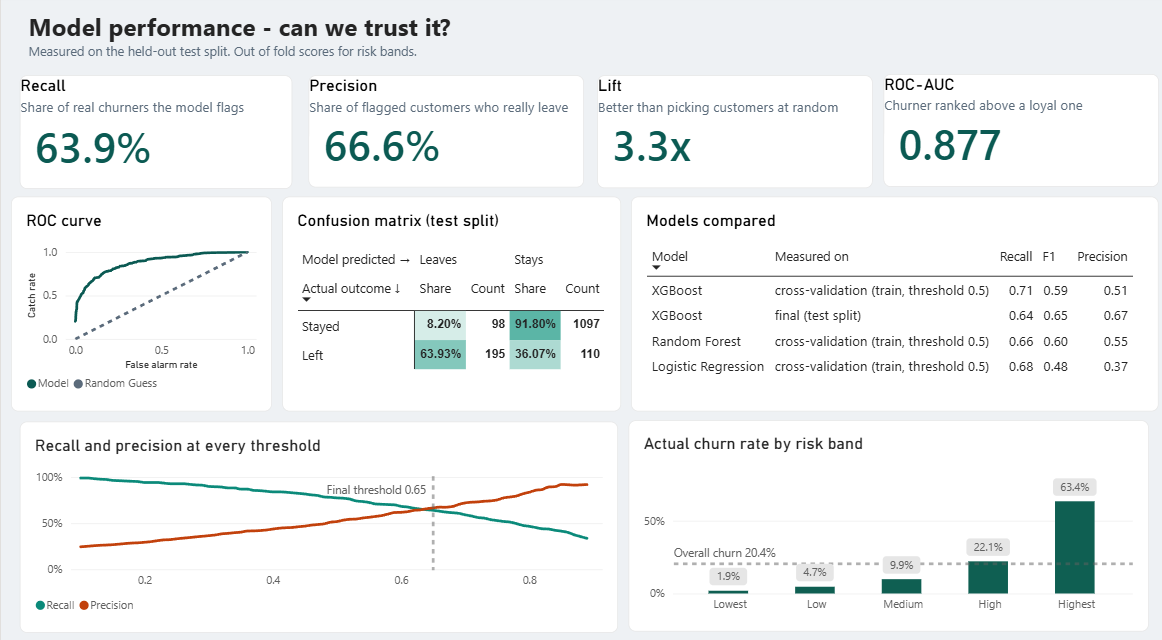

Layout of this report page (visuals, bound fields, positions):
{"tool":"powerbi","page":{"name":"Model Performance","canvas":[1280,720],"ordinal":0},"visuals":[{"type":"textbox","box":[30.2,0,423.5,77.2],"z":0},{"type":"textbox","box":[30.2,18.1,577.9,82],"z":1000},{"type":"cardVisual","title":"Recall","fields":{"Data":["_Measures.Recall (test)"]},"box":[20.6,89.2,299.1,124.9],"z":2000},{"type":"cardVisual","title":"Precision","fields":{"Data":["_Measures.Precision (test)"]},"box":[337.6,89.2,302,123.5],"z":3000},{"type":"cardVisual","title":"Lift","fields":{"Data":["_Measures.Lift"]},"box":[654.5,89.2,302,124],"z":4000},{"type":"cardVisual","title":"ROC-AUC","fields":{"Data":["_Measures.ROC-AUC (test)"]},"box":[968.8,87.8,302,124.3],"z":5000},{"type":"lineChart","title":"ROC curve","fields":{"Category":["roc_points.fpr"],"Y":["Max(roc_points.tpr)","Max(roc_points.Random guess)"]},"box":[11,222.3,286.8,236],"z":5001},{"type":"pivotTable","title":"Confusion matrix (test split)","fields":{"Columns":["confusion_test.predicted"],"Rows":["confusion_test.actual"],"Values":["Max(confusion_test.share_of_actual)","Sum(confusion_test.count)"]},"box":[308.7,222.3,371.9,236],"z":5002},{"type":"tableEx","title":"Models compared","fields":{"Values":["model_metrics.model","model_metrics.stage","Max(model_metrics.recall)","Max(model_metrics.f1)","Max(model_metrics.precision)"]},"box":[691.6,222.3,579.1,236],"z":5003},{"type":"lineChart","title":"Recall and precision at every threshold","fields":{"Category":["threshold_curve.threshold"],"Y":["Max(threshold_curve.recall)","Max(threshold_curve.precision)"]},"box":[20.5,469.3,657,232],"z":5004},{"type":"clusteredColumnChart","title":"Actual churn rate by risk band","fields":{"Category":["scored_customers.risk_band"],"Y":["Avg(scored_customers.Exited)"]},"box":[689,468,571,232],"z":5005}]}

Visuals, with their boxes in screenshot pixels (x1, y1, x2, y2), scaled from the page's 1280x720 canvas onto the 1162x640 screenshot:
textbox: pyautogui.locateOnScreen(27, 0, 412, 69)
textbox: pyautogui.locateOnScreen(27, 16, 552, 89)
"Recall" cardVisual: pyautogui.locateOnScreen(19, 79, 290, 190)
"Precision" cardVisual: pyautogui.locateOnScreen(306, 79, 581, 189)
"Lift" cardVisual: pyautogui.locateOnScreen(594, 79, 868, 190)
"ROC-AUC" cardVisual: pyautogui.locateOnScreen(879, 78, 1154, 189)
"ROC curve" lineChart: pyautogui.locateOnScreen(10, 198, 270, 407)
"Confusion matrix (test split)" pivotTable: pyautogui.locateOnScreen(280, 198, 618, 407)
"Models compared" tableEx: pyautogui.locateOnScreen(628, 198, 1154, 407)
"Recall and precision at every threshold" lineChart: pyautogui.locateOnScreen(19, 417, 615, 623)
"Actual churn rate by risk band" clusteredColumnChart: pyautogui.locateOnScreen(625, 416, 1144, 622)
